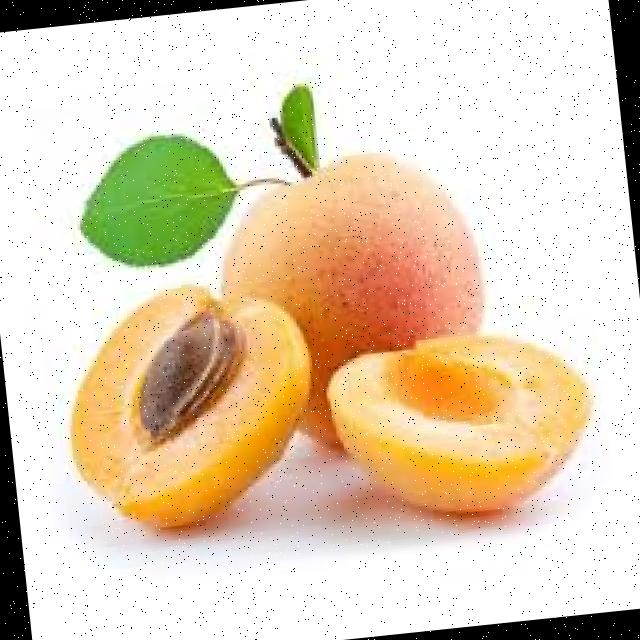Cekirdek: (141, 311, 242, 439)
Kayisi: (226, 152, 483, 443)
Yaprak: (86, 133, 237, 264)
